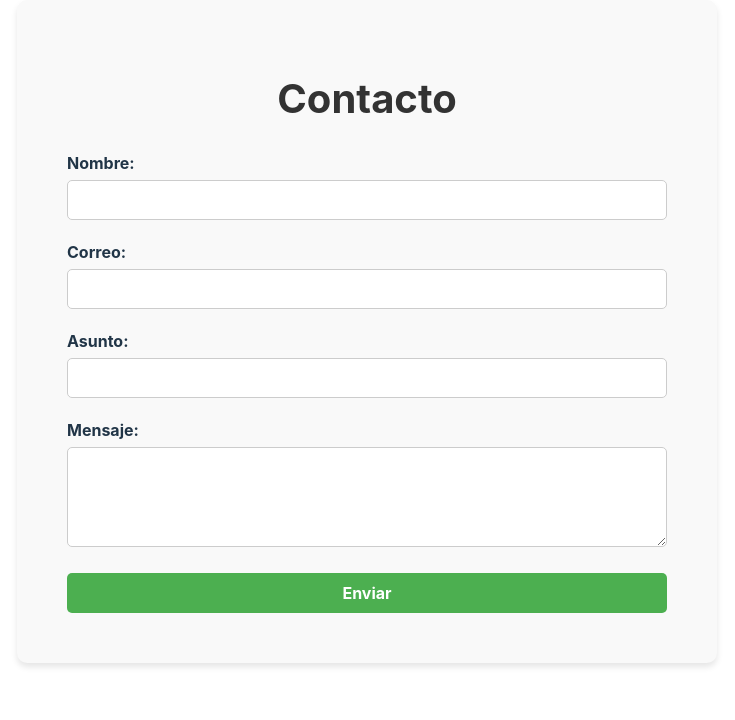
it: Muestra mensaje de éxito al enviar el formulario correctamente
Type "John Doe" into the field labelled "Nombre:" at (367, 200), box [67, 180, 667, 220]
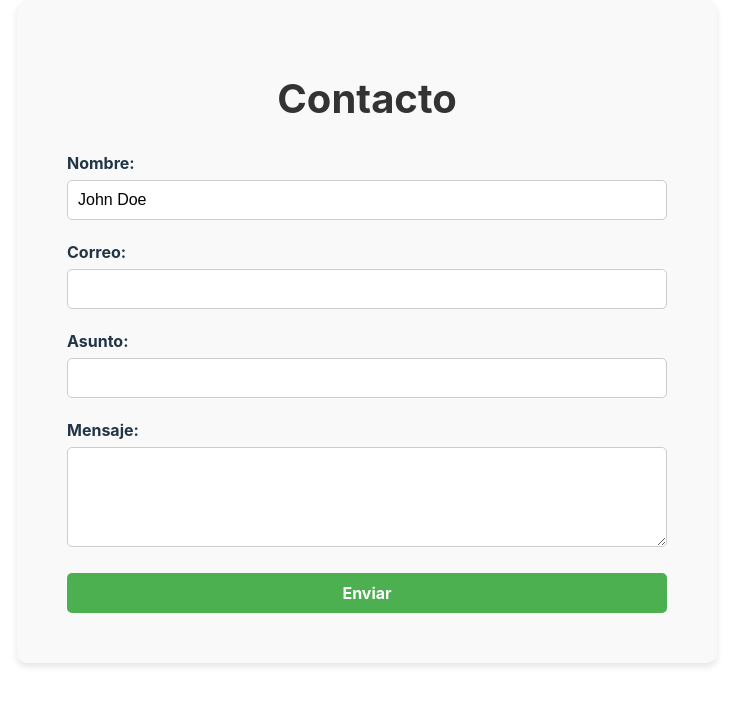
Type "john@example.com" into the field labelled "Correo:" at (367, 289), box [67, 269, 667, 309]
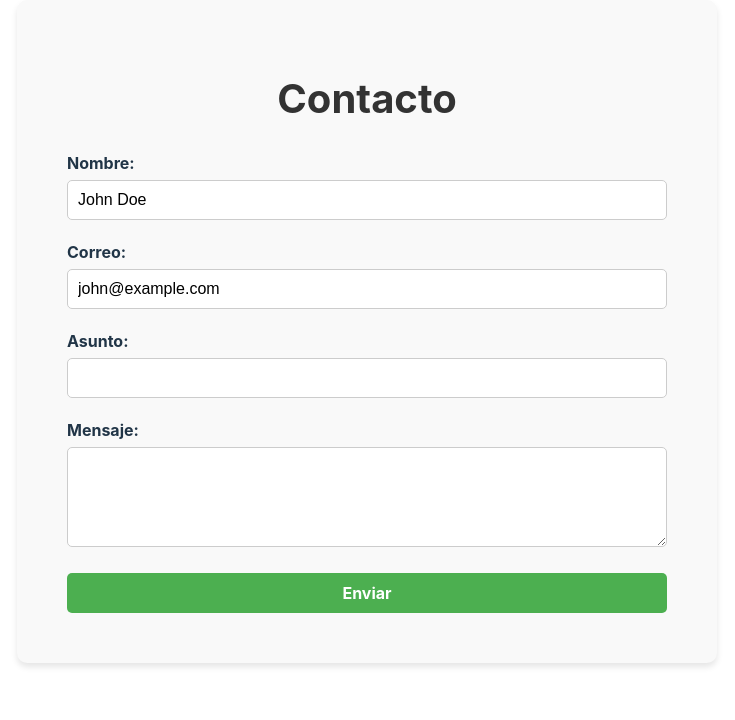
Type "Prueba" into the field labelled "Asunto:" at (367, 378), box [67, 358, 667, 398]
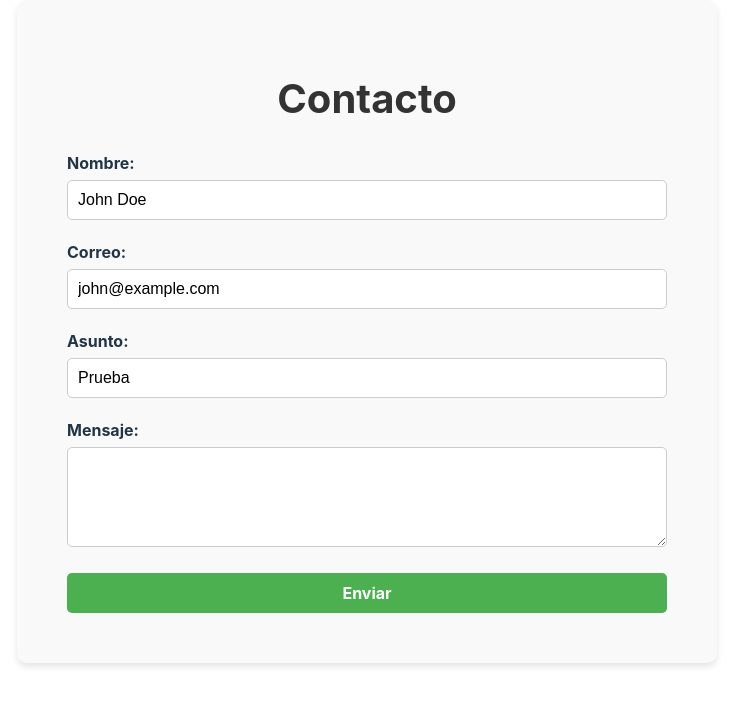
Type "Este es un mensaje de prueba" into the text box labelled "Mensaje:" at (367, 497), box [67, 447, 667, 547]
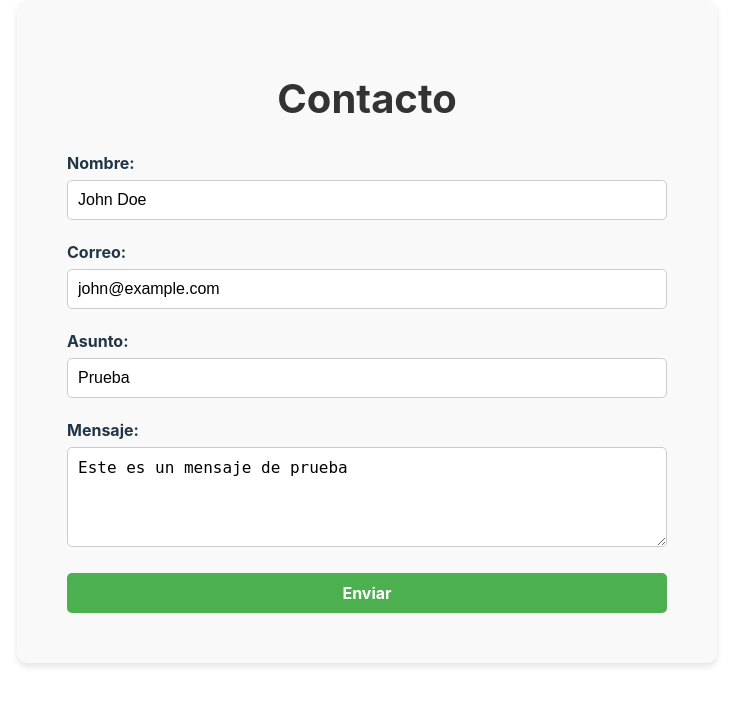
Click the button "Enviar" at (367, 593), box [67, 573, 667, 613]
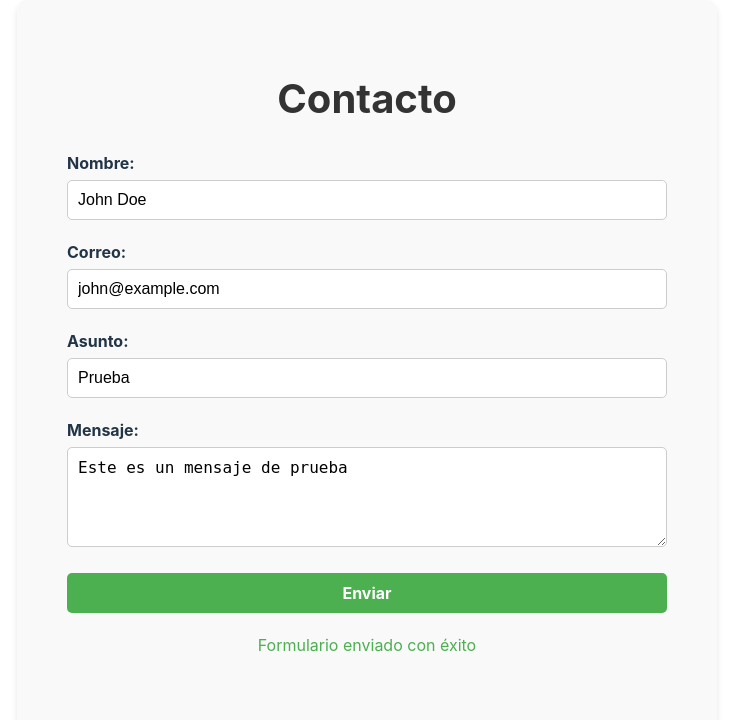
Result: the text "Formulario enviado con éxito" is shown at [258, 635, 476, 655]
